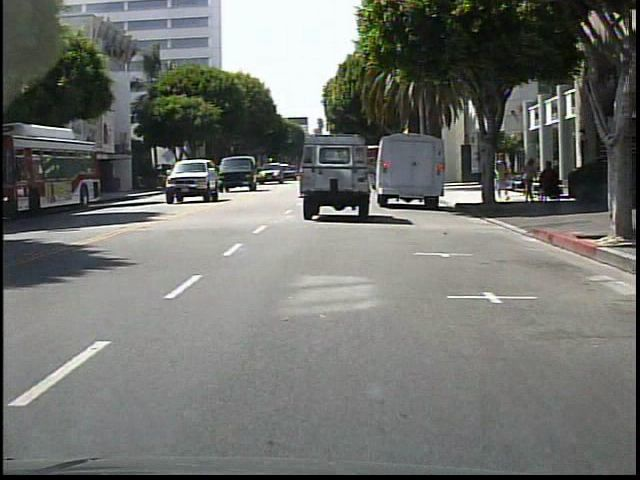person: (493, 153, 509, 204), (520, 159, 536, 202)
